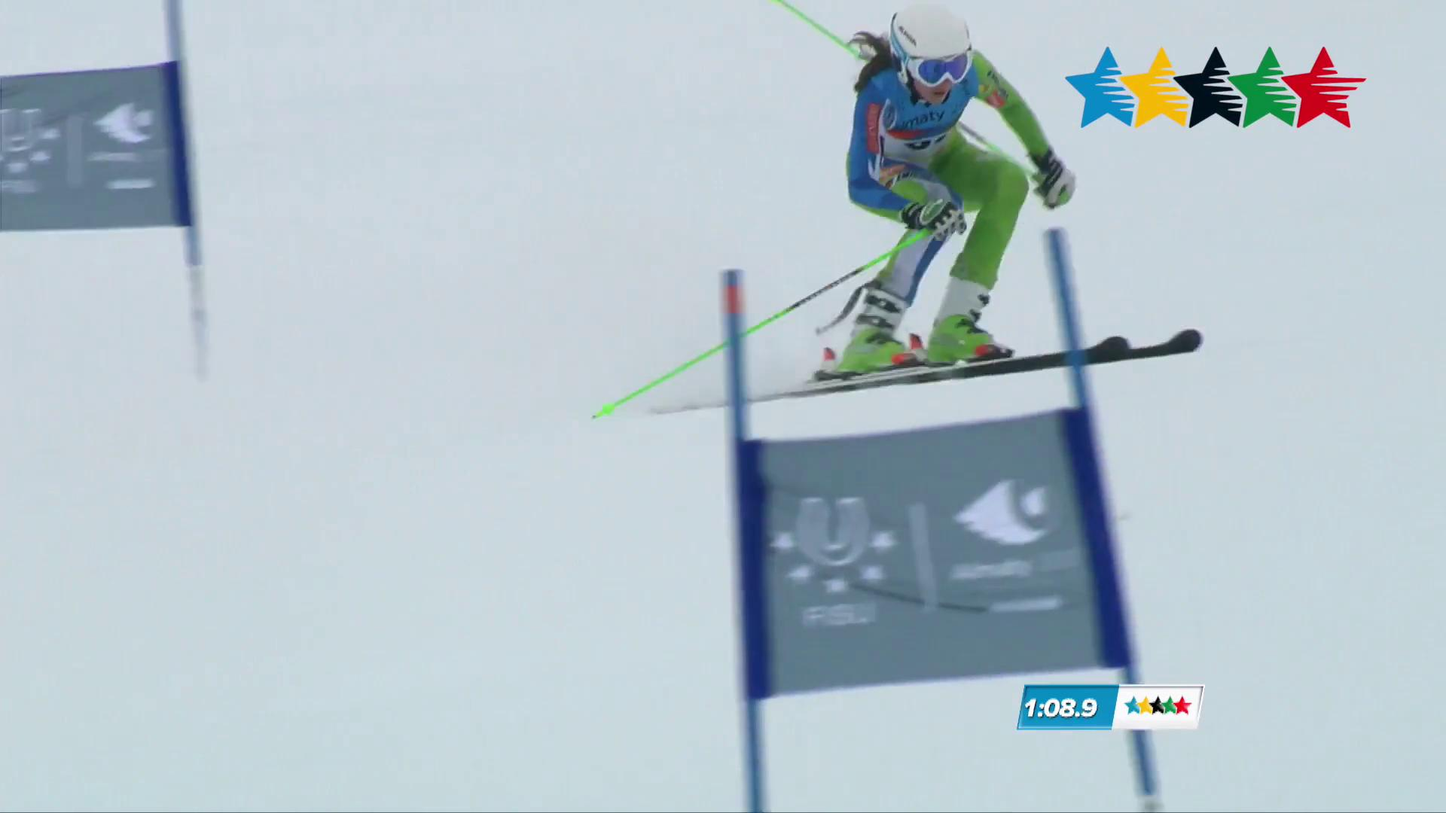gate: (724, 229, 1142, 812), (1133, 732, 1160, 808)
